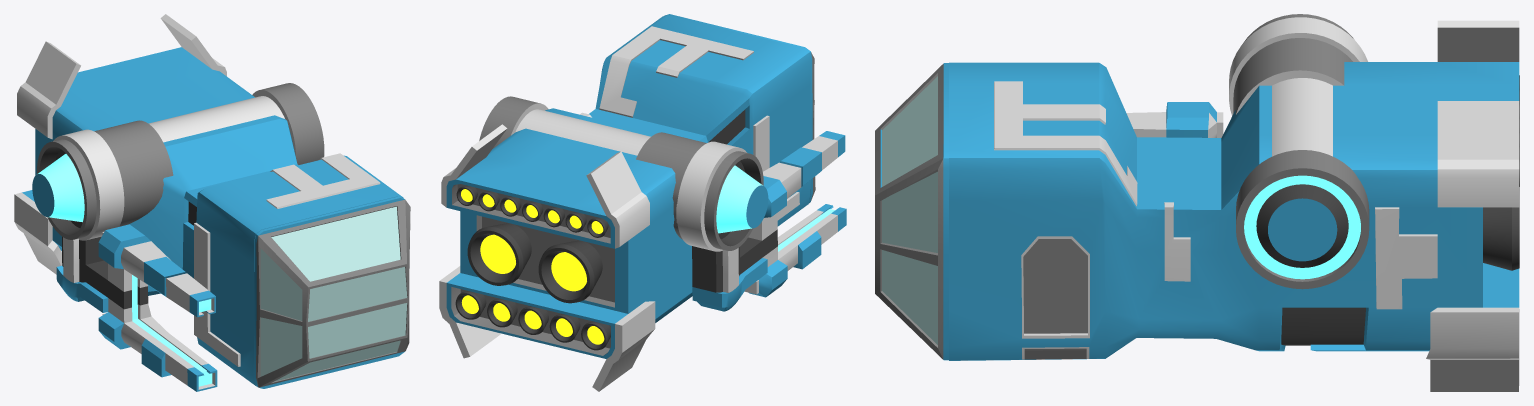
File: Ugly_Duck.glb
3 views of the same model, side by side, from view 1: azimuth 30°, elevation 25°; view 2: azimuth 150°, elevation 25°; view 3: azimuth 270°, elevation 25° (orthographic). The views are drawn at different scales.
Parts seen in each view (by area): view 1: Cube, Cube.001, Cylinder.001, Cylinder; view 2: Cube, Cylinder.001, Cylinder, Cylinder.004, Cylinder.003, Cylinder.002, Cube.001; view 3: Cube, Cylinder, Cube.001, Cylinder.001, Cylinder.004.
Boxes of the visible parts, x1,y1,x2,y2 form: Cube: (14, 14, 403, 386); Cube.001: (253, 196, 410, 388); Cylinder.001: (53, 129, 217, 391); Cylinder: (32, 83, 324, 239); Cube: (439, 15, 810, 391); Cylinder.001: (676, 131, 846, 311); Cylinder: (479, 96, 768, 250); Cylinder.004: (467, 223, 602, 303); Cylinder.003: (455, 291, 610, 350); Cylinder.002: (456, 185, 608, 237); Cube.001: (664, 14, 815, 203); Cube: (949, 20, 1519, 391); Cylinder: (1233, 14, 1369, 289); Cube.001: (875, 63, 949, 360); Cylinder.001: (1126, 17, 1367, 137); Cylinder.004: (1483, 187, 1519, 270).
Bounding box in the file's own units: 3.41 × 2.75 × 5.55.
